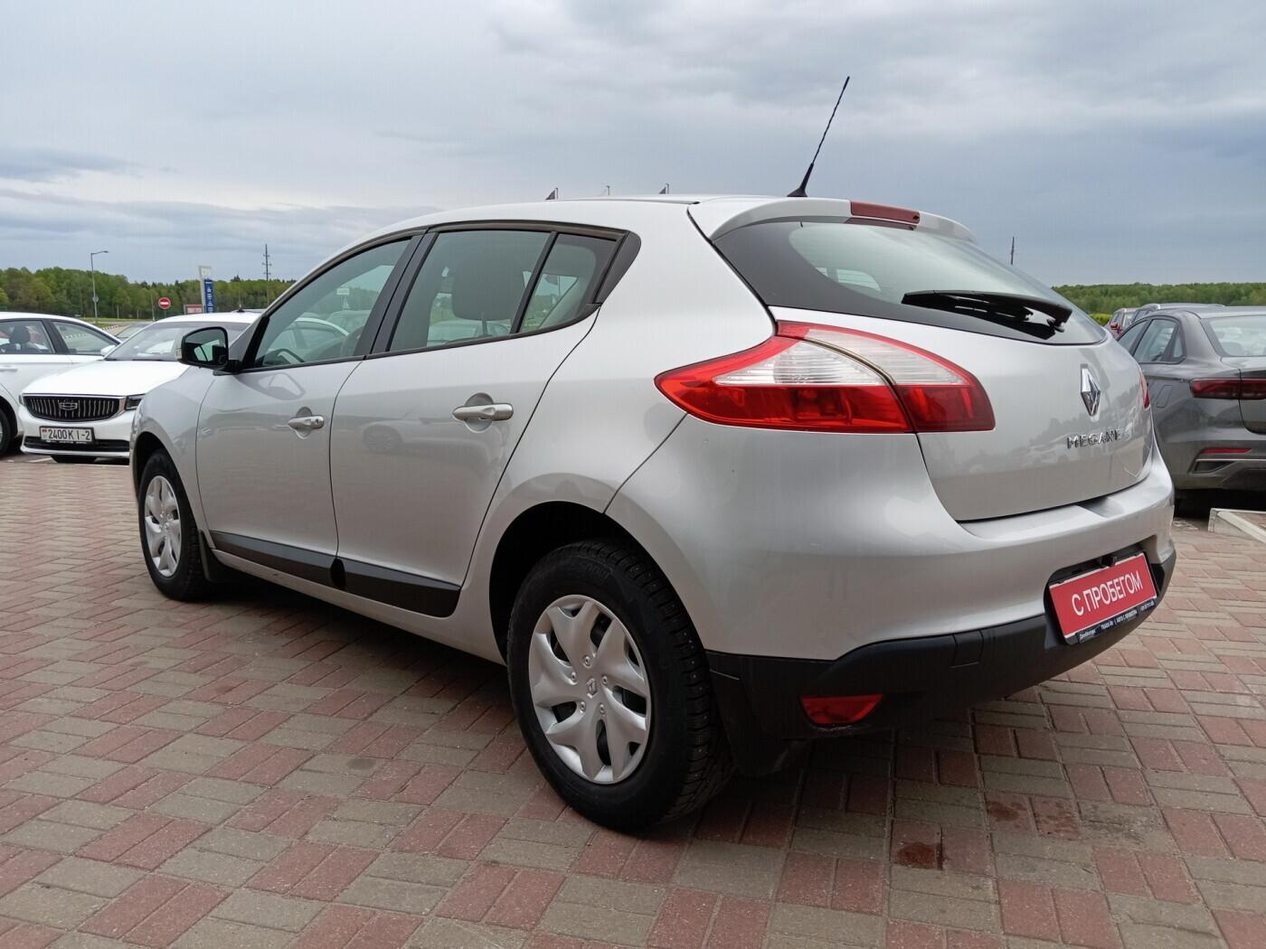Megane_2012-2014: (125, 195, 1179, 797)
